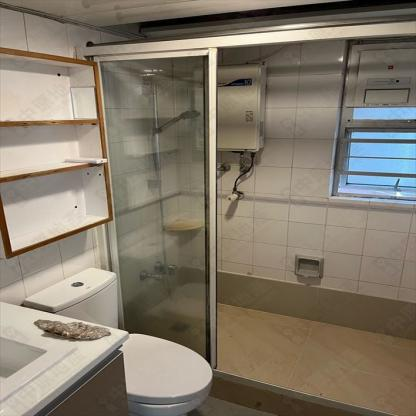Thermo Ventilator: (340, 41, 415, 106)
Toilet: (20, 267, 213, 414)
Toilet Sink: (0, 335, 48, 381)
Water Cubicle: (90, 42, 214, 366)
Water Heater: (197, 63, 267, 152)
